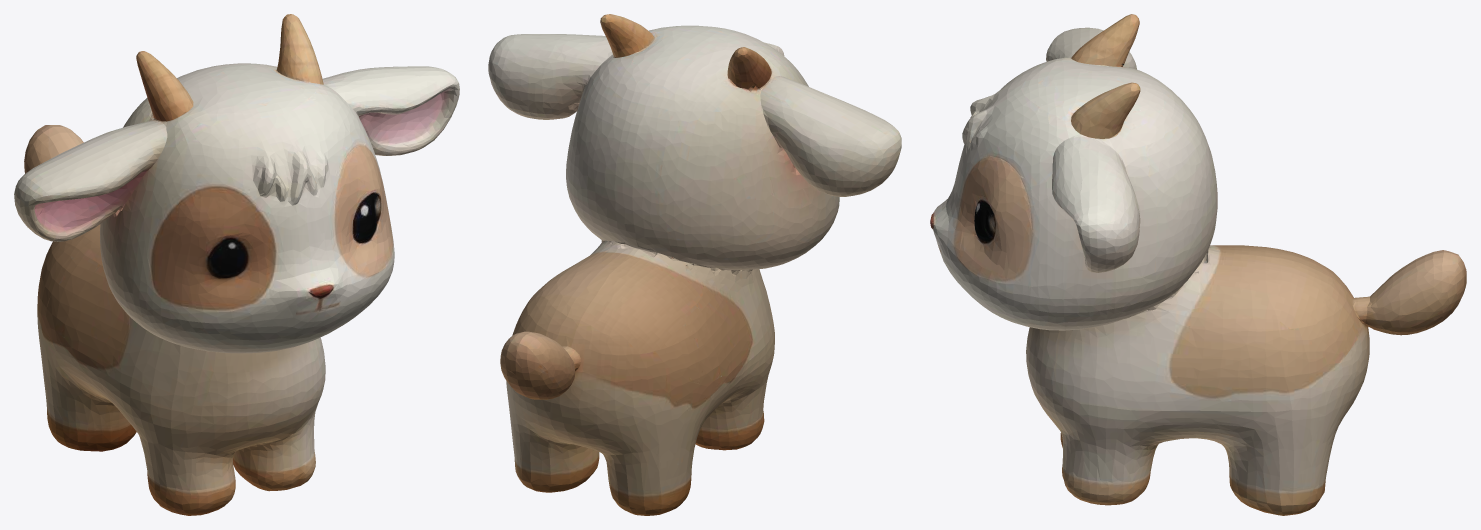
The model's file is goat.glb.
3 views of the same model, side by side, from view 1: azimuth 30°, elevation 25°; view 2: azimuth 150°, elevation 25°; view 3: azimuth 270°, elevation 25° (orthographic). The views are drawn at different scales.
Visible parts, largest first — view 1: geometry_0; view 2: geometry_0; view 3: geometry_0.
Boxes of the visible parts, x1,y1,x2,y2 form: geometry_0: (14, 14, 459, 515); geometry_0: (488, 14, 901, 515); geometry_0: (930, 14, 1466, 515).
Size of the model in its own units: 0.8986 by 0.8878 by 0.9986.
1 material, 1 textured.
